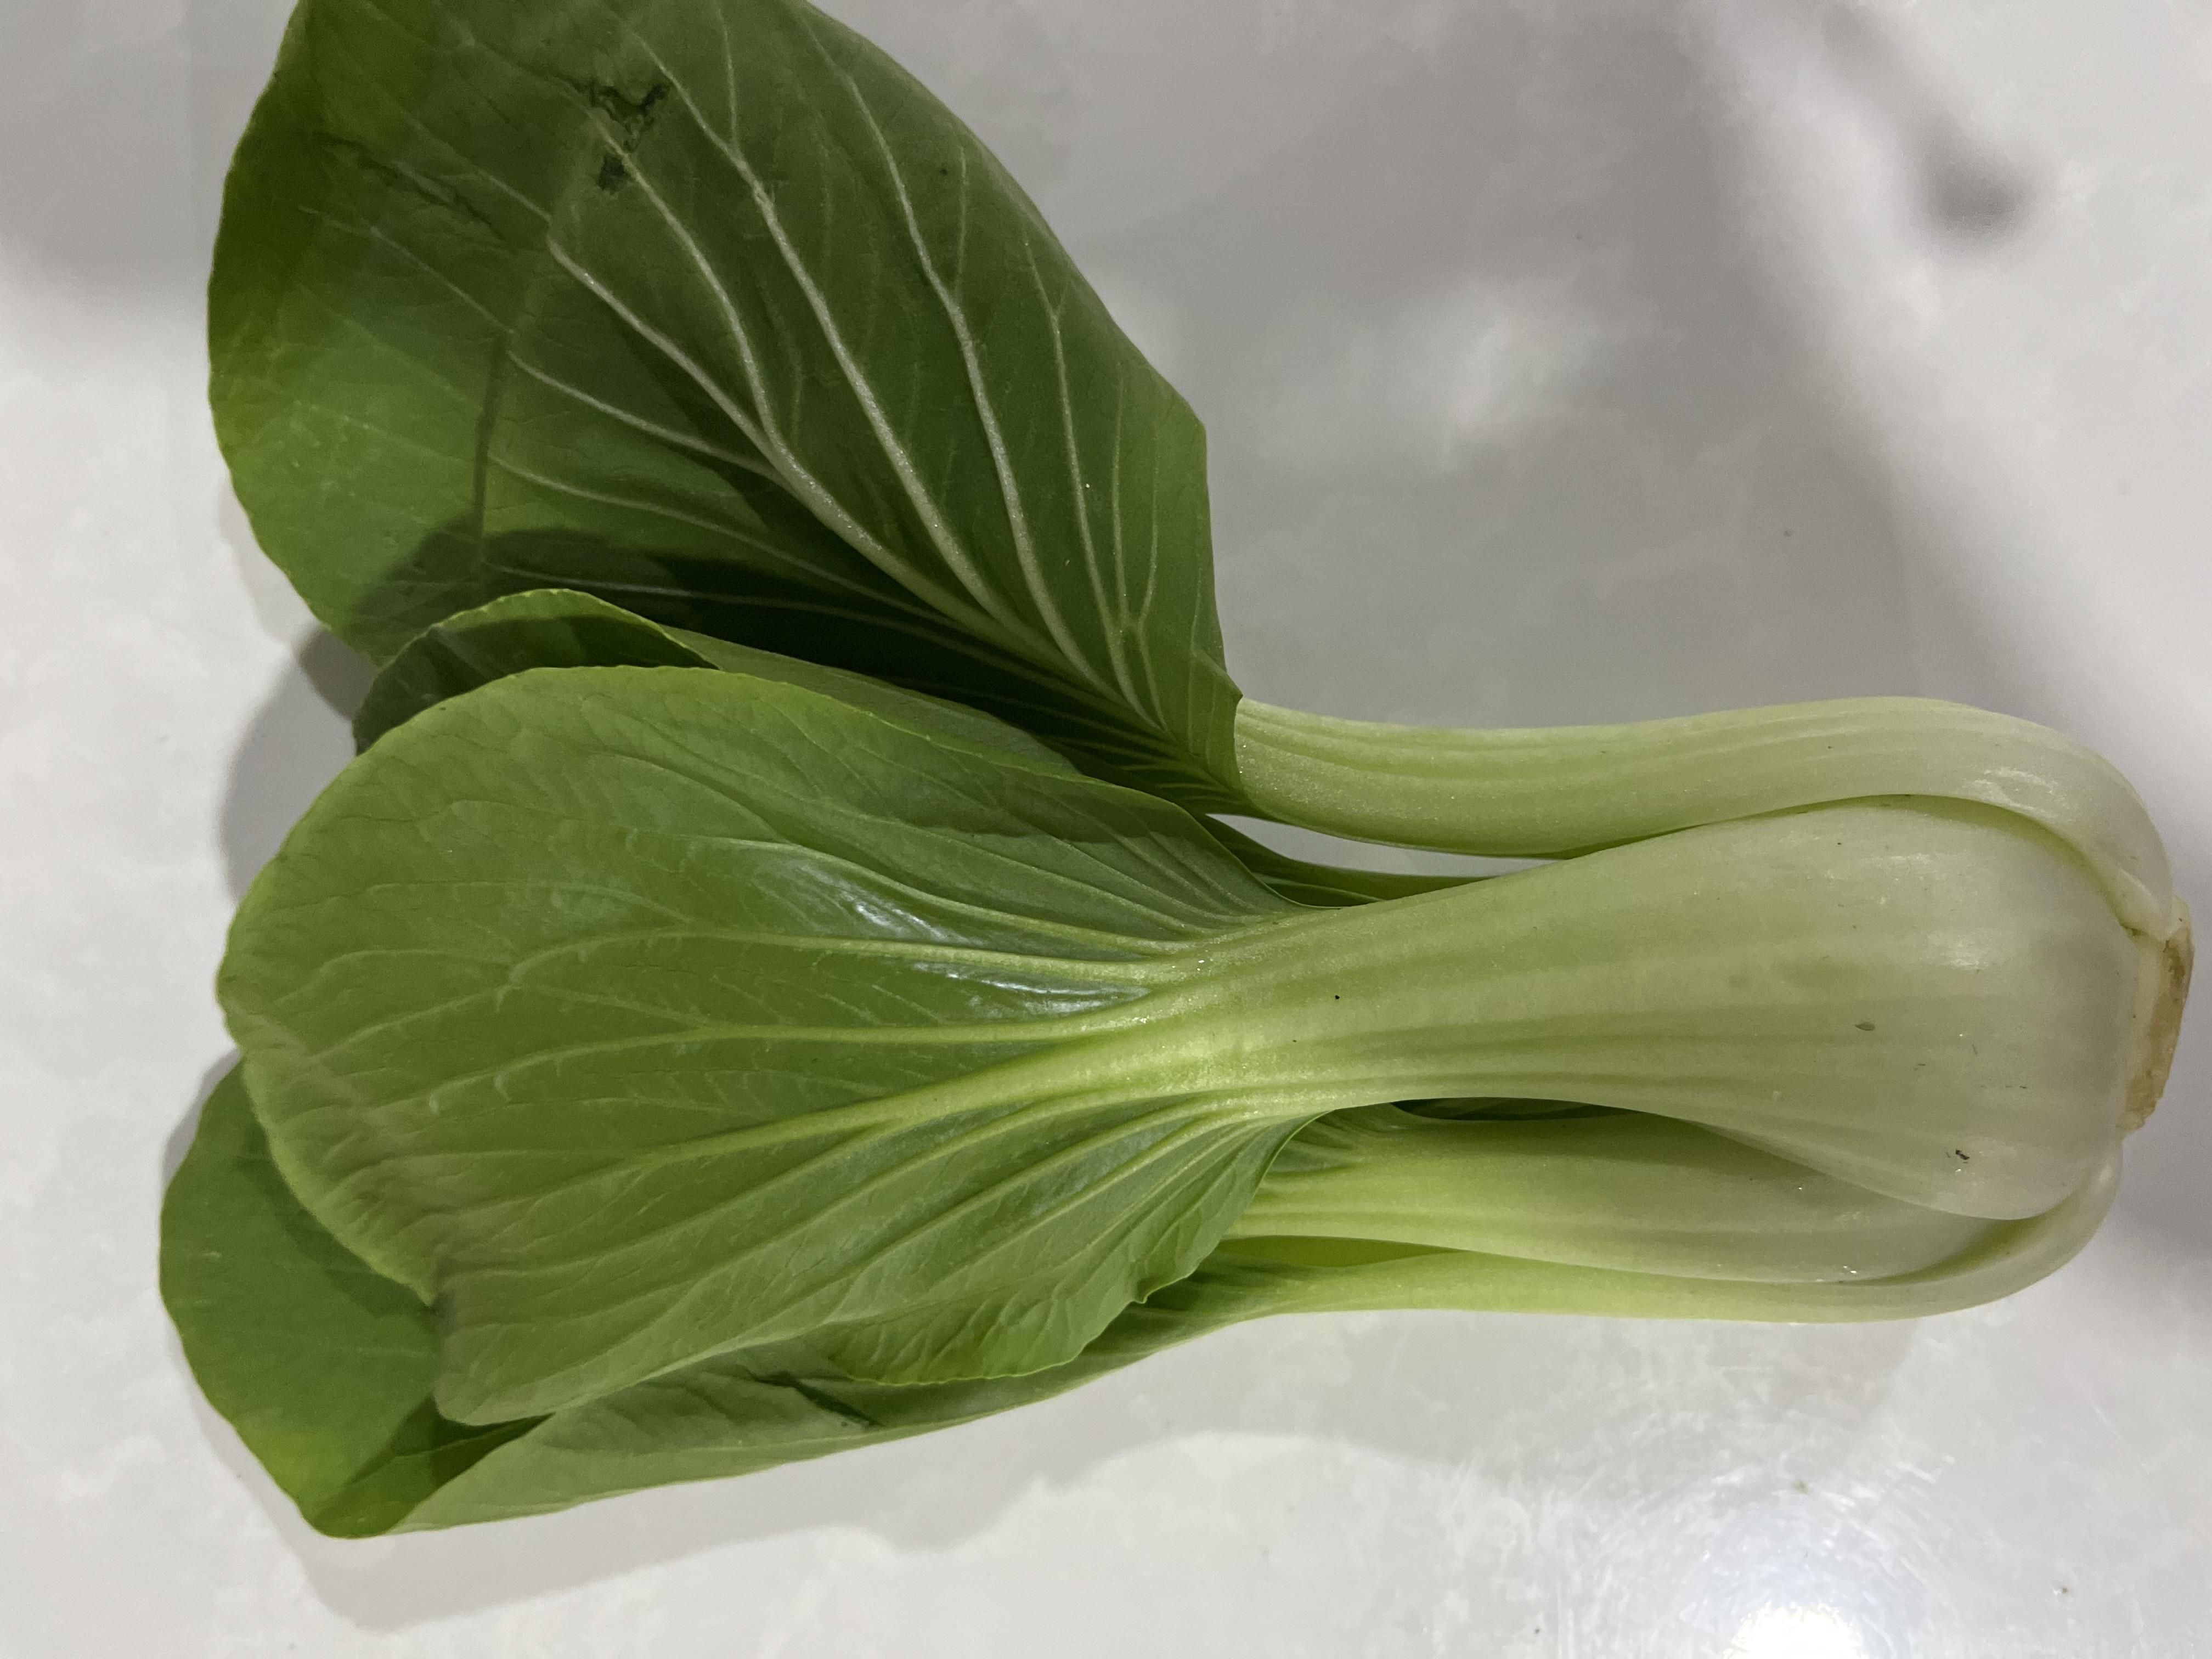Healthy-Pechay: (143, 0, 2167, 1525)
